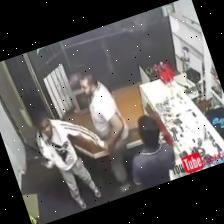person: (36, 113, 101, 208), (79, 74, 130, 192), (133, 115, 175, 189)
